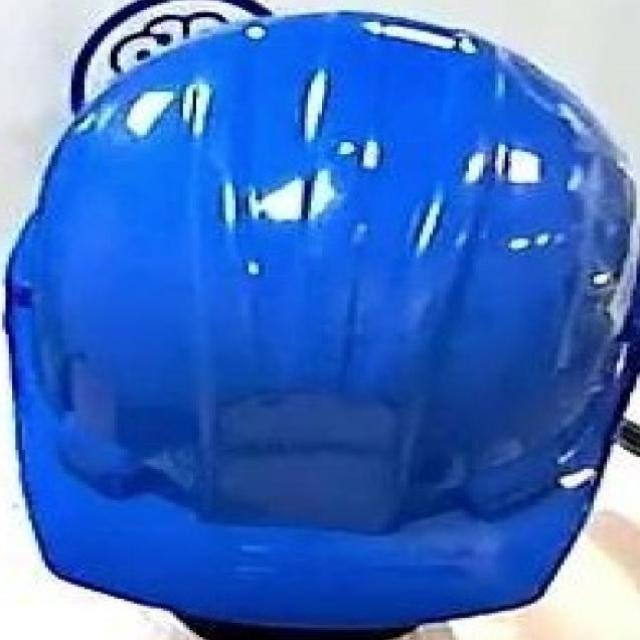helmet: (1, 8, 640, 635)
